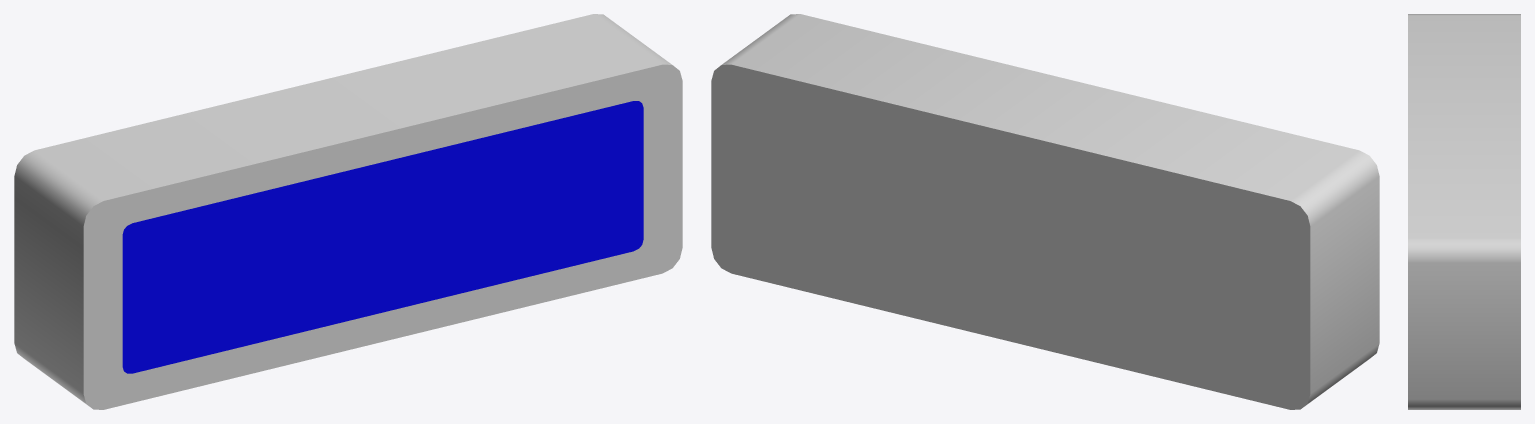
The model's file is OLED.fbx.
3 views of the same model, side by side, from view 1: azimuth 30°, elevation 25°; view 2: azimuth 150°, elevation 25°; view 3: azimuth 270°, elevation 25° (orthographic). The views are drawn at different scales.
Visible parts, largest first — view 1: OLED_Body; view 2: OLED_Body; view 3: OLED_Body.
Boxes of the visible parts, x1,y1,x2,y2 form: OLED_Body: (14,14,682,409); OLED_Body: (711,14,1379,409); OLED_Body: (1408,14,1520,409).
Bounding box in the file's own units: 0.3 × 0.1 × 0.06.
